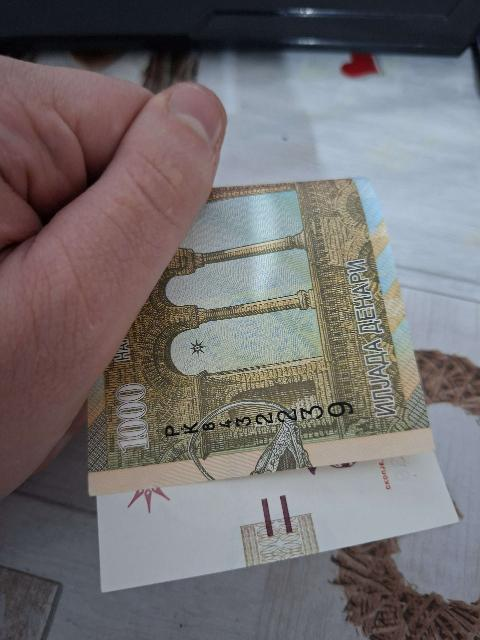note: (83, 165, 457, 599)
